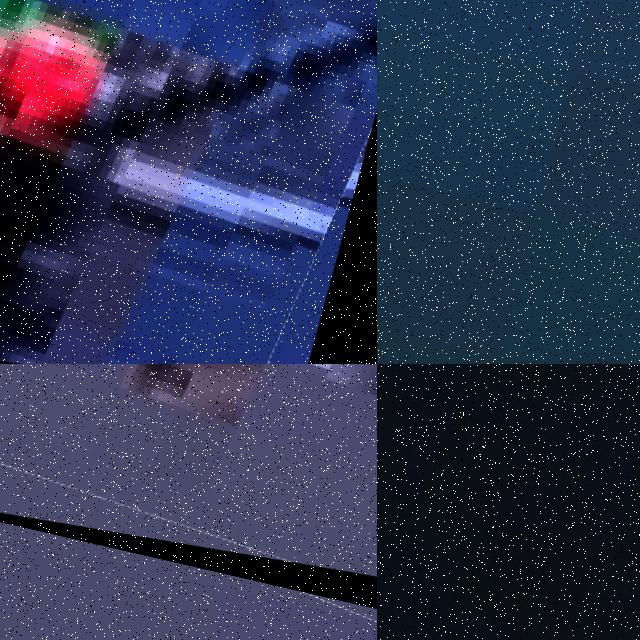0: (0, 0, 377, 364), (0, 364, 377, 635)
drone: (377, 364, 640, 640)
